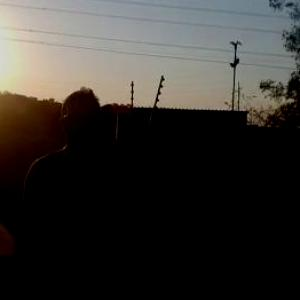follow: (15, 82, 128, 299)
